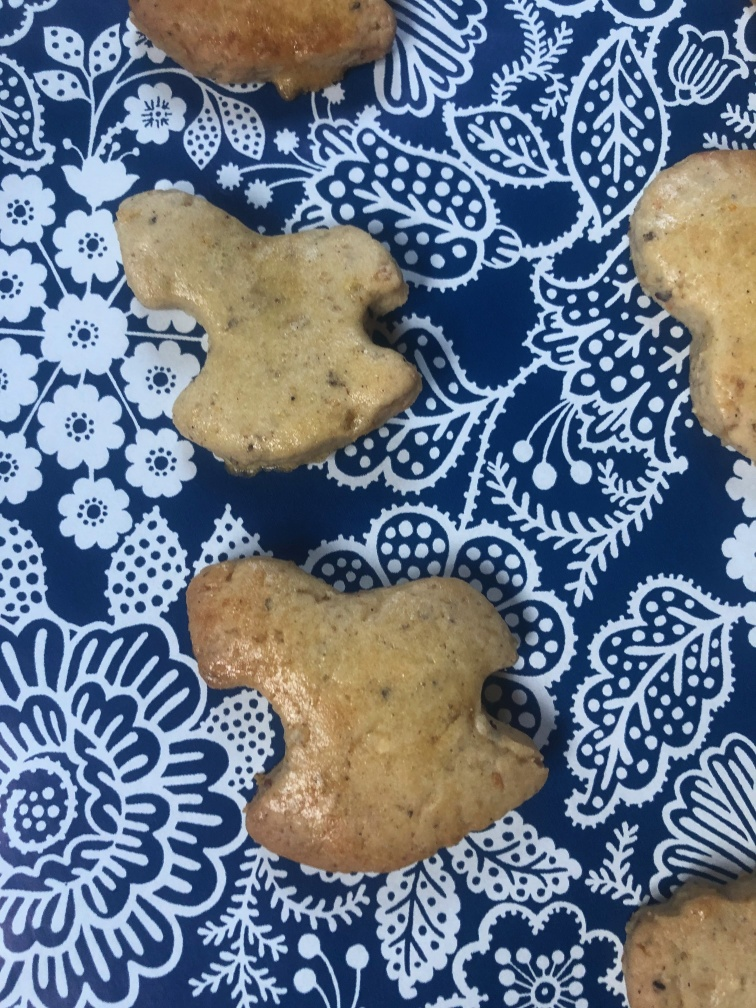lamb: (179, 550, 549, 881), (105, 172, 421, 475)
